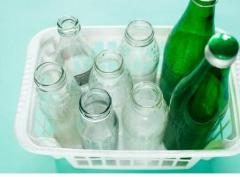glass: (162, 2, 240, 150)
